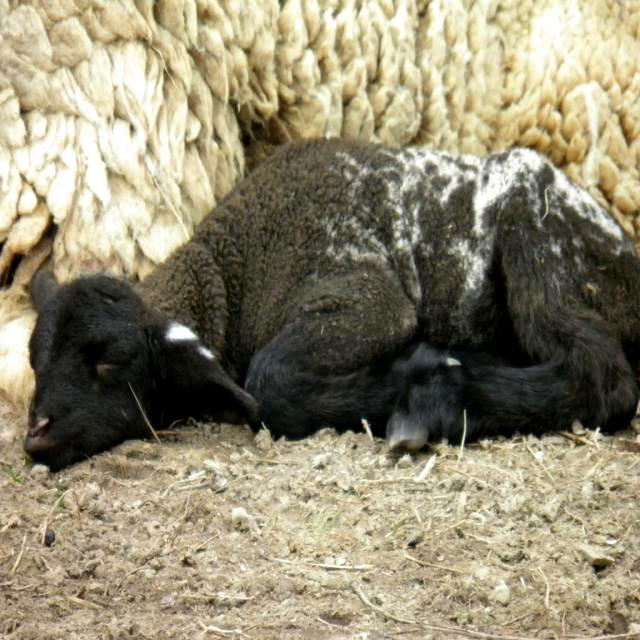sheep: (25, 136, 637, 455)
